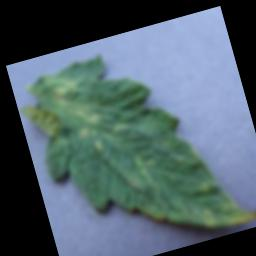Leaf_Mold: (48, 75, 104, 144), (230, 197, 256, 225)
